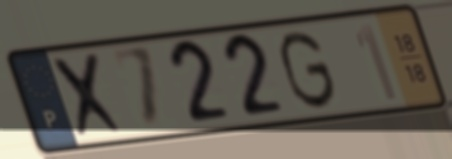1: (353, 20, 400, 103)
2: (164, 36, 241, 132), (218, 30, 295, 126)
7: (106, 46, 164, 134)
G: (277, 27, 341, 113)
X: (47, 49, 132, 142)
